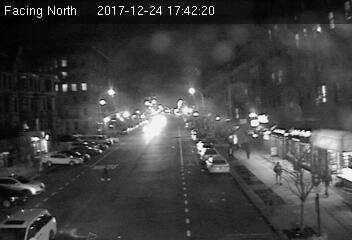car: (207, 156, 230, 173)
pedestrian: (272, 160, 284, 187)
